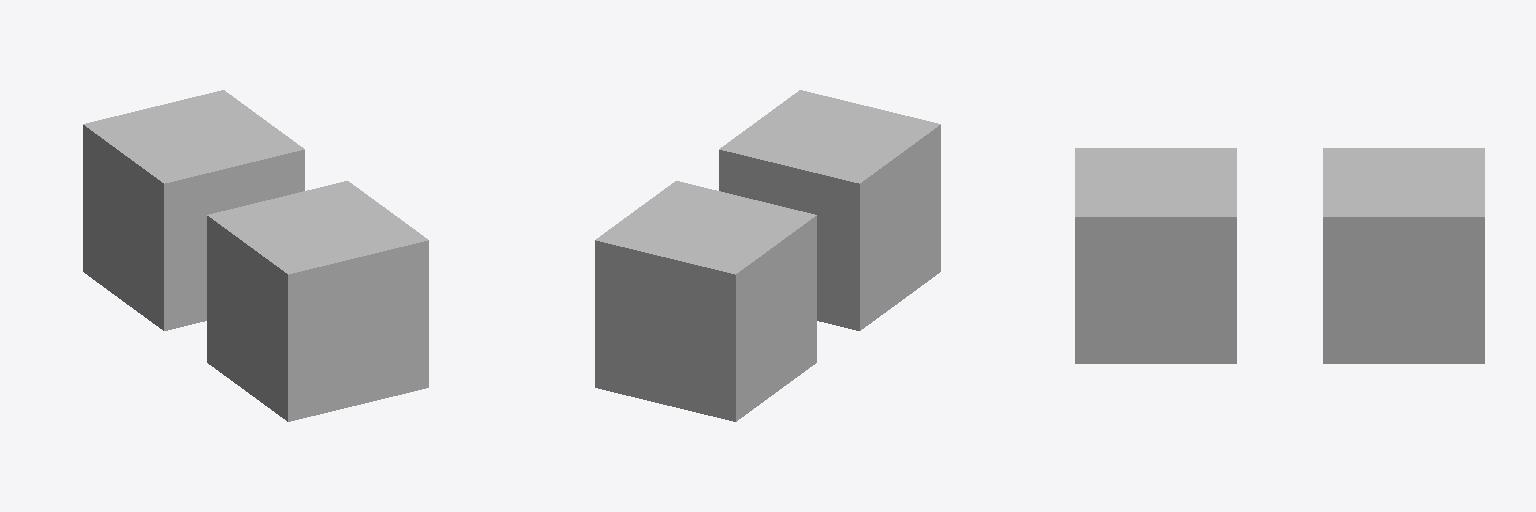
The model's file is DualQuadObject.obj.
The picture shows the model from 3 angles: view 1: azimuth 30°, elevation 25°; view 2: azimuth 150°, elevation 25°; view 3: azimuth 270°, elevation 25°; orthographic projection.
Parts seen in each view (by area): view 1: pCube1, pCube2; view 2: pCube2, pCube1; view 3: pCube1, pCube2.
Part boxes in pixels (left/top/right/bottom): pCube1: left=207, top=181, right=428, bottom=421; pCube2: left=83, top=90, right=304, bottom=330; pCube2: left=595, top=181, right=816, bottom=421; pCube1: left=719, top=90, right=940, bottom=330; pCube1: left=1075, top=148, right=1236, bottom=363; pCube2: left=1323, top=148, right=1484, bottom=363.
Size of the model in its own units: 1 by 1 by 2.52.